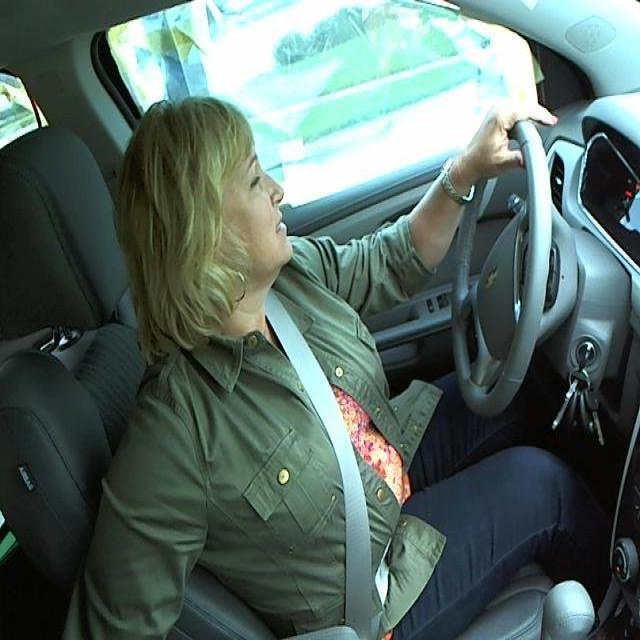seatbelt: (268, 319, 381, 620)
